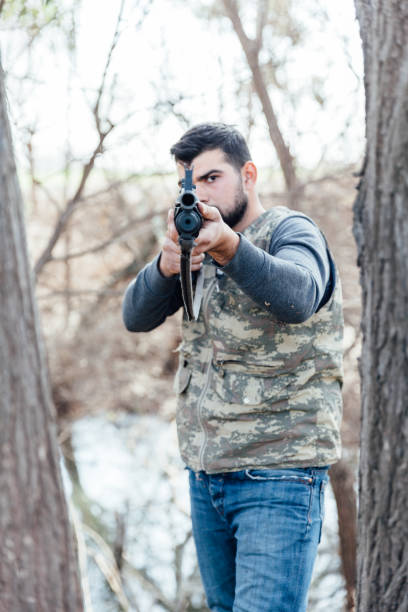gun: (174, 164, 203, 240)
